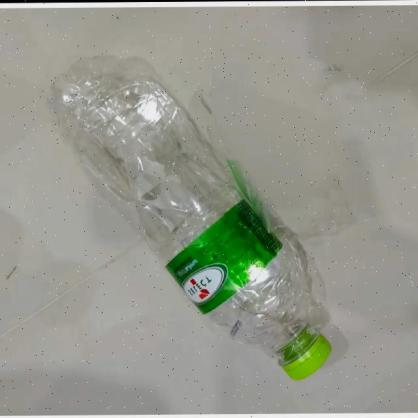bottle: (40, 63, 332, 382)
cap: (275, 334, 331, 381)
label: (166, 200, 283, 315)
